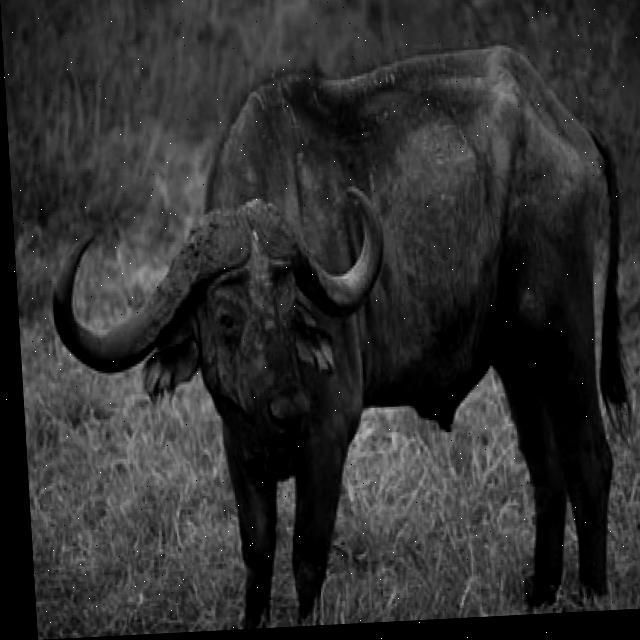Buffalo: (37, 40, 640, 631)
